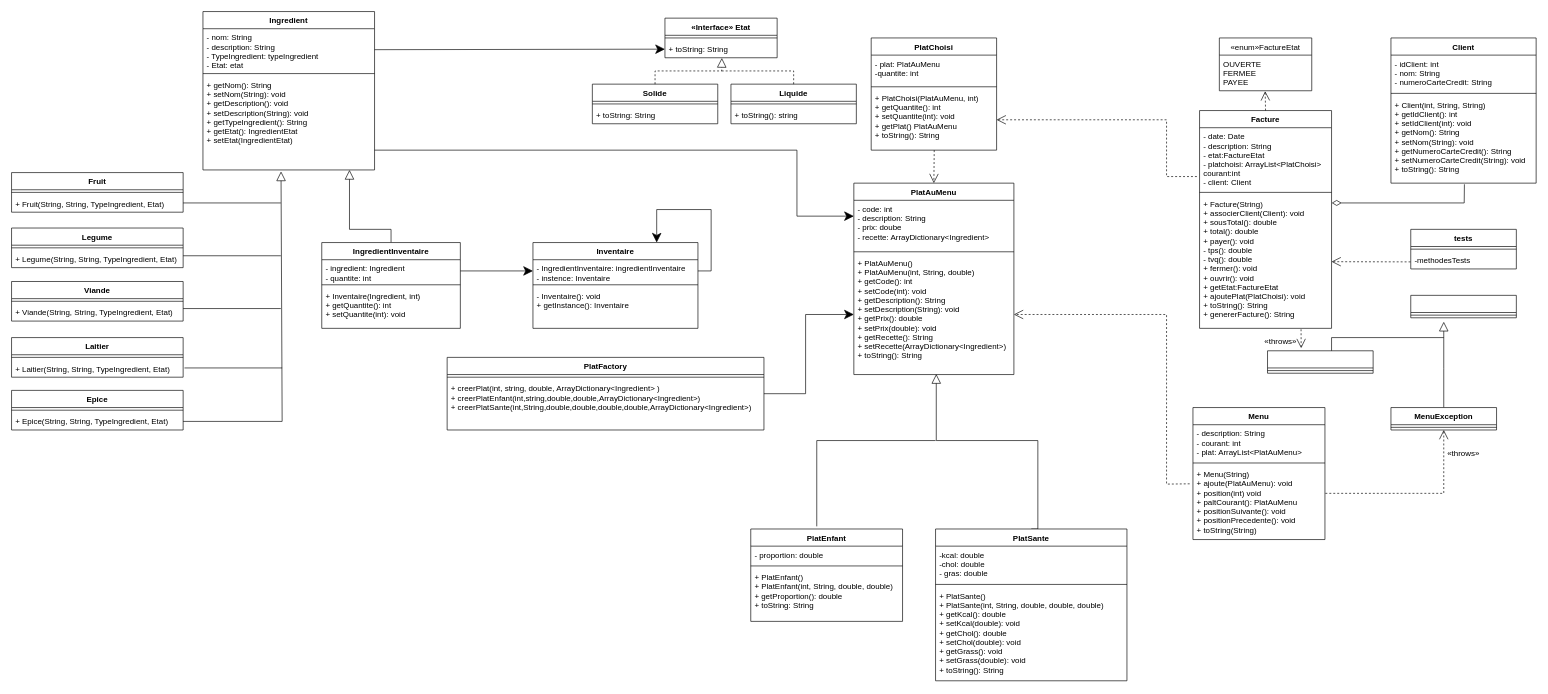
This 1548x694 diagram has some shape labels left out. Here are the shapes that lost their labels. From the top down, the centre of each, then its label:
point 1463,306: java.lang.Exception
point 1320,361: FactureException
